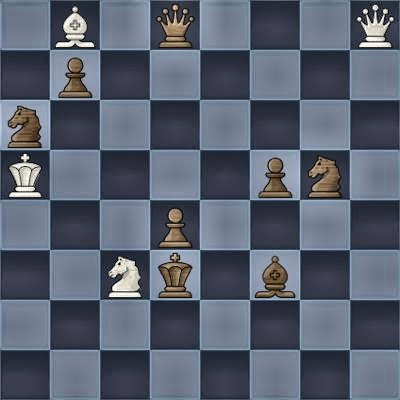black-bishop: (250, 250, 300, 300)
black-king: (150, 250, 200, 300)
black-knight: (0, 100, 50, 150), (300, 150, 350, 200)
black-pawn: (50, 50, 100, 100), (250, 150, 300, 200), (150, 200, 200, 250)
black-queen: (150, 0, 200, 50)
white-bishop: (50, 0, 100, 50)
white-king: (0, 150, 50, 200)
white-knight: (100, 250, 150, 300)
white-queen: (350, 0, 400, 50)
